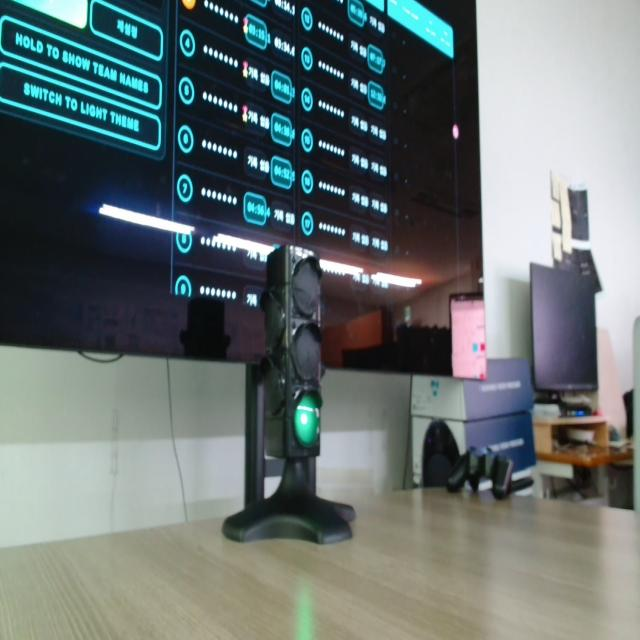green_light: (294, 394, 321, 446)
